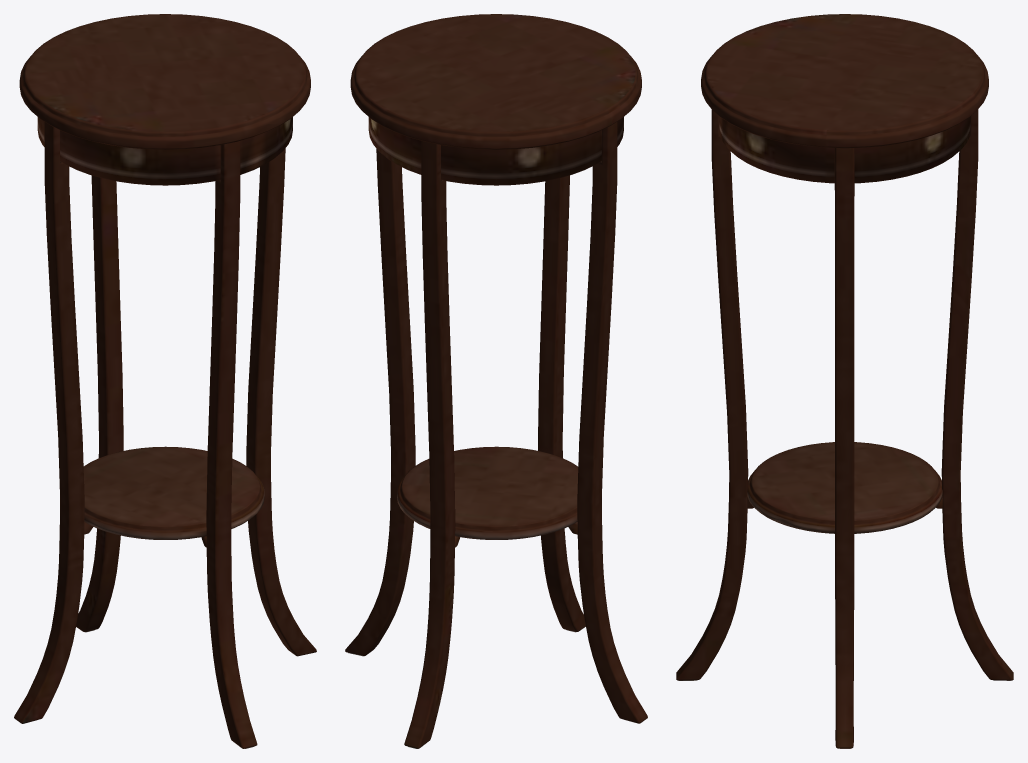
The model's file is side-table-tall.lite.56f555b3.glb.
3 views of the same model, side by side, from view 1: azimuth 30°, elevation 25°; view 2: azimuth 150°, elevation 25°; view 3: azimuth 270°, elevation 25° (orthographic).
Visible parts, largest first — view 1: model; view 2: model; view 3: model.
Part boxes in pixels (x1,y1,x2,y2): model: (14, 14, 316, 748); model: (345, 14, 647, 748); model: (676, 14, 1013, 748).
Bounding box in the file's own units: 0.384 × 0.7612 × 0.384.
1 material, 1 textured.
